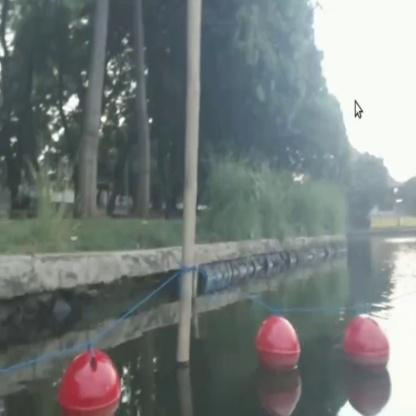red_buoy: (61, 350, 142, 394), (342, 318, 392, 379), (254, 313, 300, 375)
